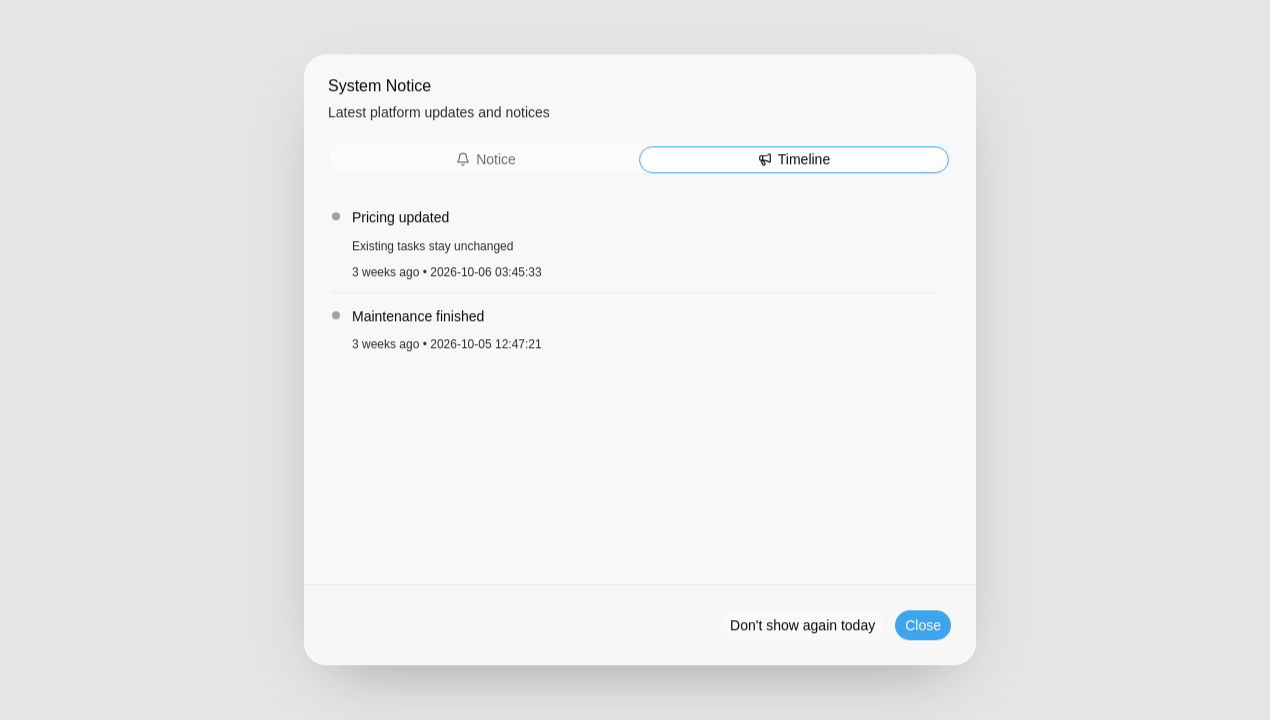
切回标签页时检查新通知，即使缓存尚未过期也会弹出
Click the button "Don't show again today": [803, 626] box [719,610,886,642]
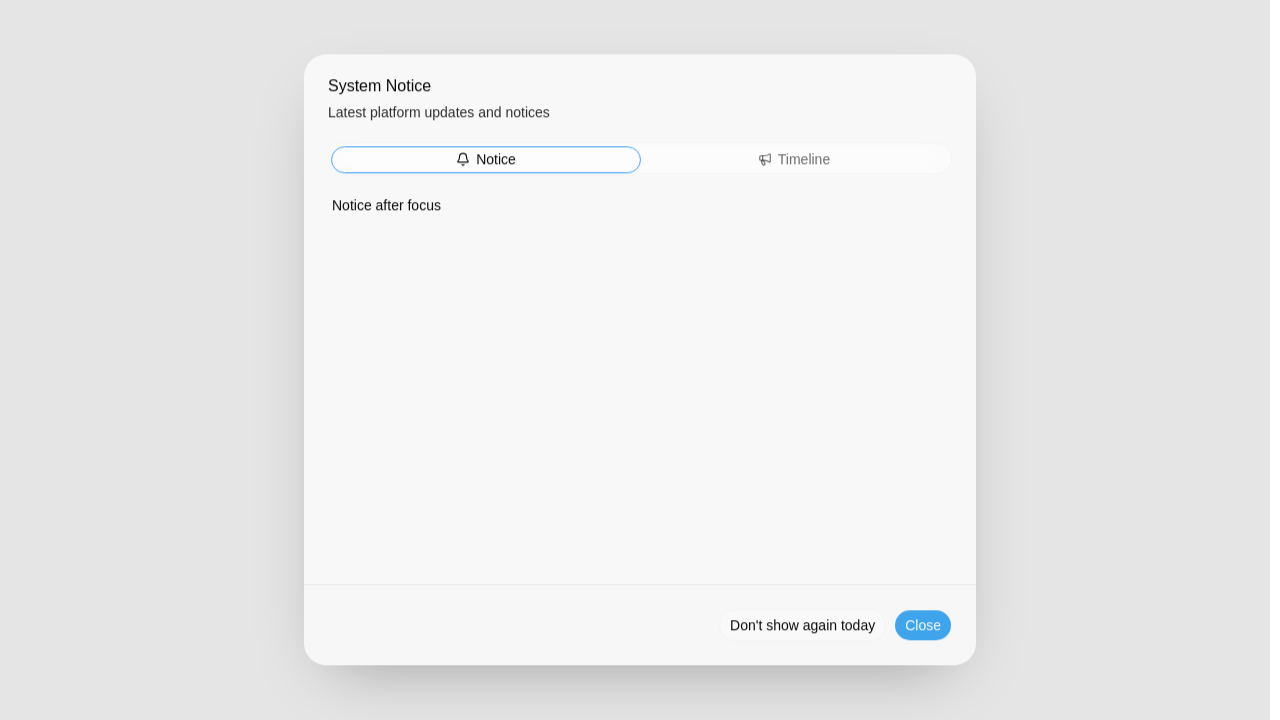
Now the text "Notice after focus" is shown, box [332,197,441,213]
